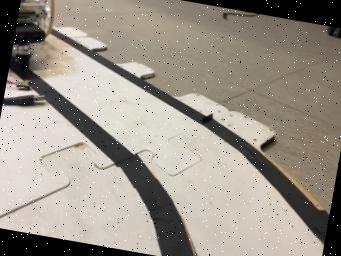street: (0, 37, 323, 256), (0, 37, 323, 256), (0, 37, 323, 256), (50, 28, 328, 243), (50, 28, 328, 243), (50, 28, 328, 243)
